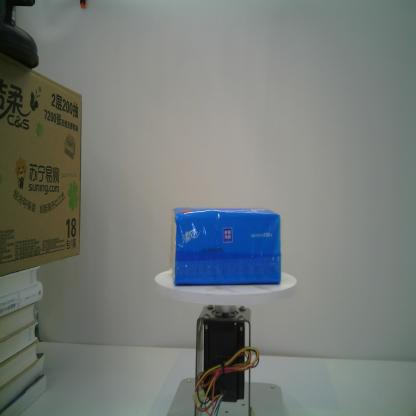Tissue: (169, 204, 282, 287)
